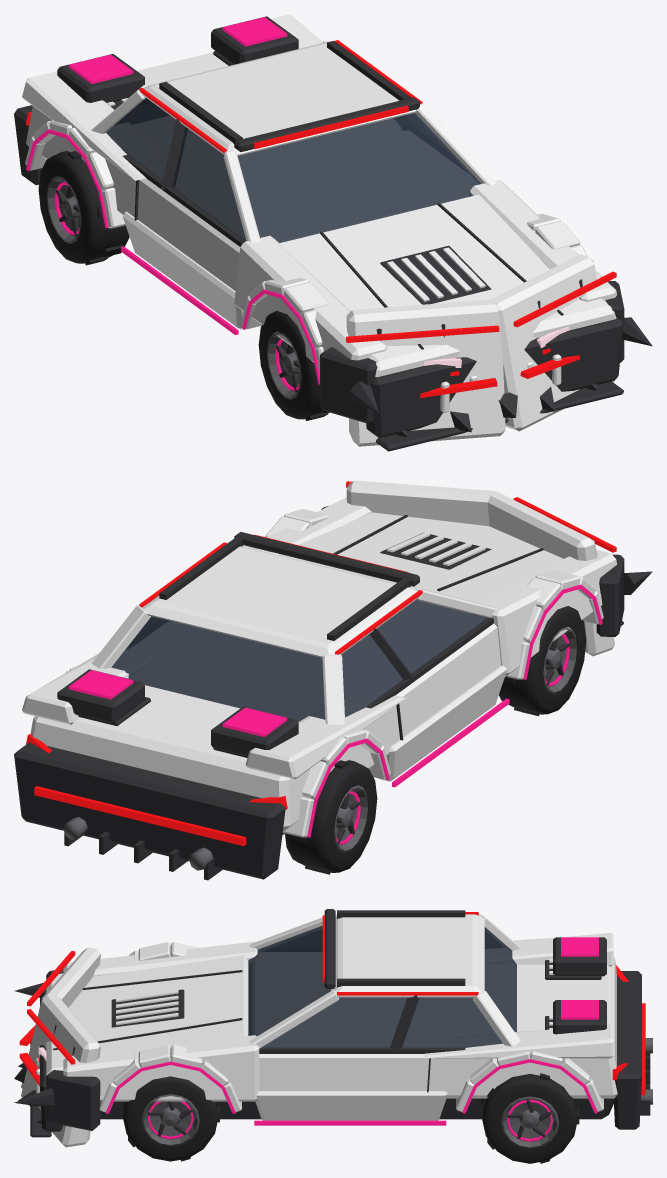
The model's file is rammer_phone.glb.
The picture shows the model from 3 angles, top to bottom: view 1: azimuth 30°, elevation 25°; view 2: azimuth 150°, elevation 25°; view 3: azimuth 270°, elevation 25°; orthographic projection. The views are drawn at different scales.
Visible parts, largest first — view 1: rammer_body, wheel_RL_mesh, wheel_FL_mesh; view 2: rammer_body, wheel_RL_mesh, wheel_FL_mesh; view 3: rammer_body, wheel_RR_mesh, wheel_FR_mesh.
Part boxes in pixels (bbox=[...]): rammer_body: bbox=[14, 14, 652, 451]; wheel_RL_mesh: bbox=[38, 151, 129, 265]; wheel_FL_mesh: bbox=[258, 310, 329, 420]; rammer_body: bbox=[14, 480, 652, 880]; wheel_RL_mesh: bbox=[285, 760, 377, 874]; wheel_FL_mesh: bbox=[499, 606, 586, 716]; rammer_body: bbox=[14, 909, 652, 1147]; wheel_RR_mesh: bbox=[481, 1073, 579, 1163]; wheel_FR_mesh: bbox=[122, 1076, 219, 1161].
Size of the model in its own units: 2.13 by 1.33 by 4.73.
6 materials, 1 textured.
